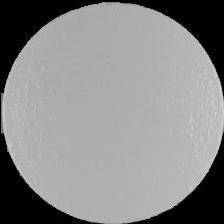63402-302: (0, 0, 224, 224)
